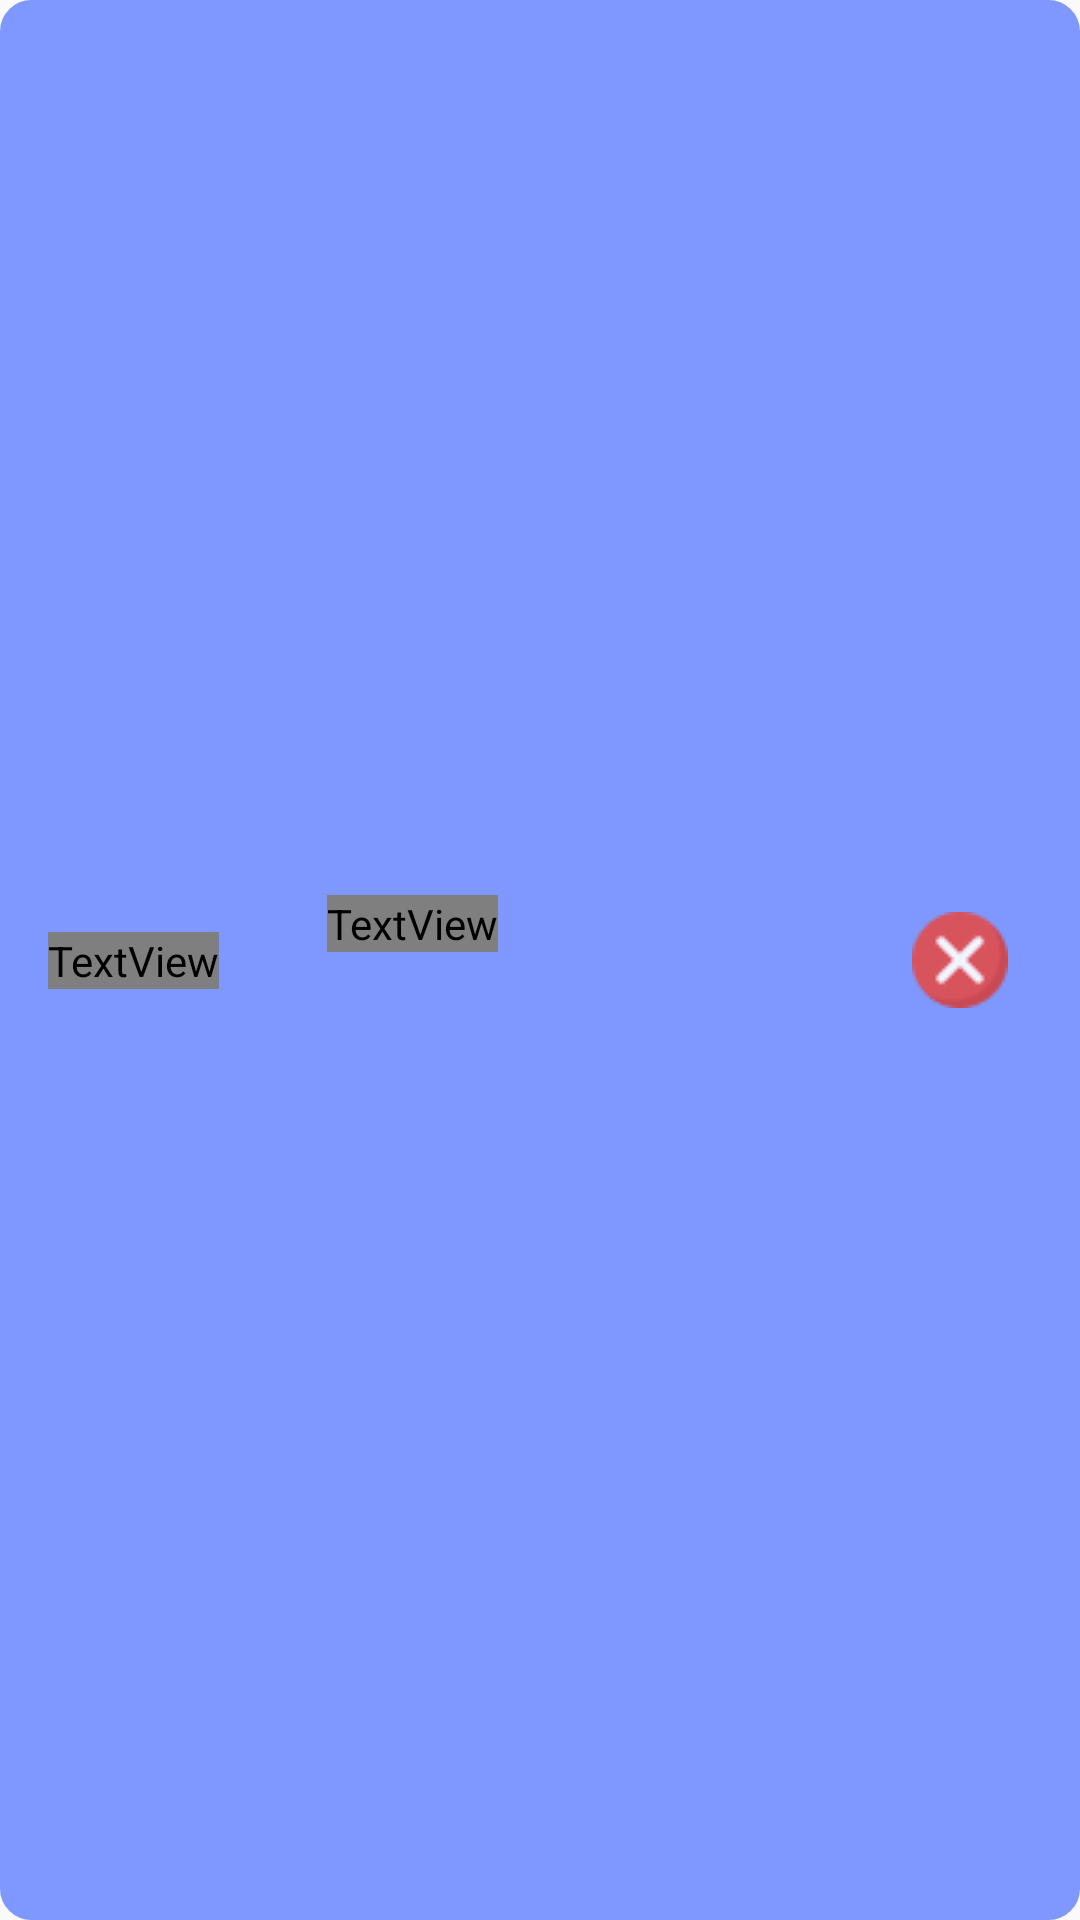

Icon click points for this 1080x1920 phone screenshot, format point (x, y):
is cancel: point (960, 960)
